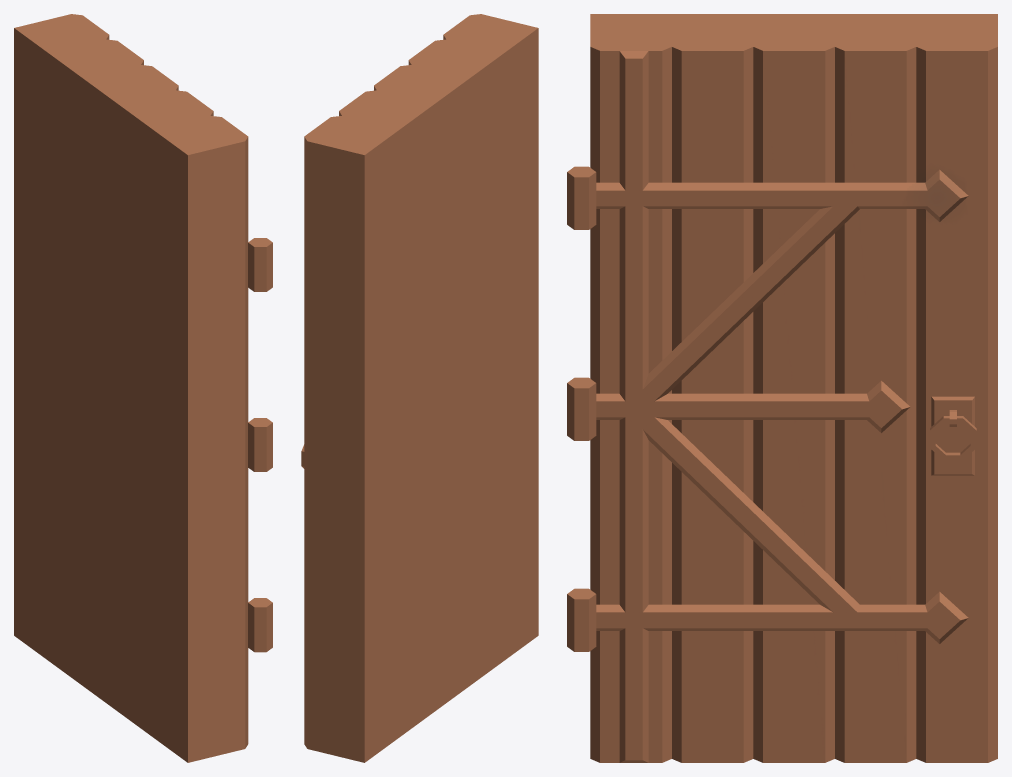
File: Wall_Prop_Door_Ornate.glb
The picture shows the model from 3 angles, left to right: view 1: azimuth 30°, elevation 25°; view 2: azimuth 150°, elevation 25°; view 3: azimuth 270°, elevation 25°; orthographic projection. The views are drawn at different scales.
Parts seen in each view (by area): view 1: mesh_id5, mesh_id8; view 2: mesh_id5; view 3: mesh_id5, mesh_id8, mesh_id4, mesh_id7.
Part boxes in pixels (x1=…): mesh_id5: x1=14, y1=14, x2=248, y2=762; mesh_id8: x1=248, y1=238, x2=272, y2=652; mesh_id5: x1=304, y1=14, x2=538, y2=762; mesh_id5: x1=590, y1=14, x2=997, y2=762; mesh_id8: x1=567, y1=51, x2=968, y2=762; mesh_id4: x1=931, y1=396, x2=974, y2=475; mesh_id7: x1=930, y1=416, x2=976, y2=460.
Size of the model in its own units: 0.0689 by 0.512 by 0.2807.
Materials: 5 (5 with a texture image).
